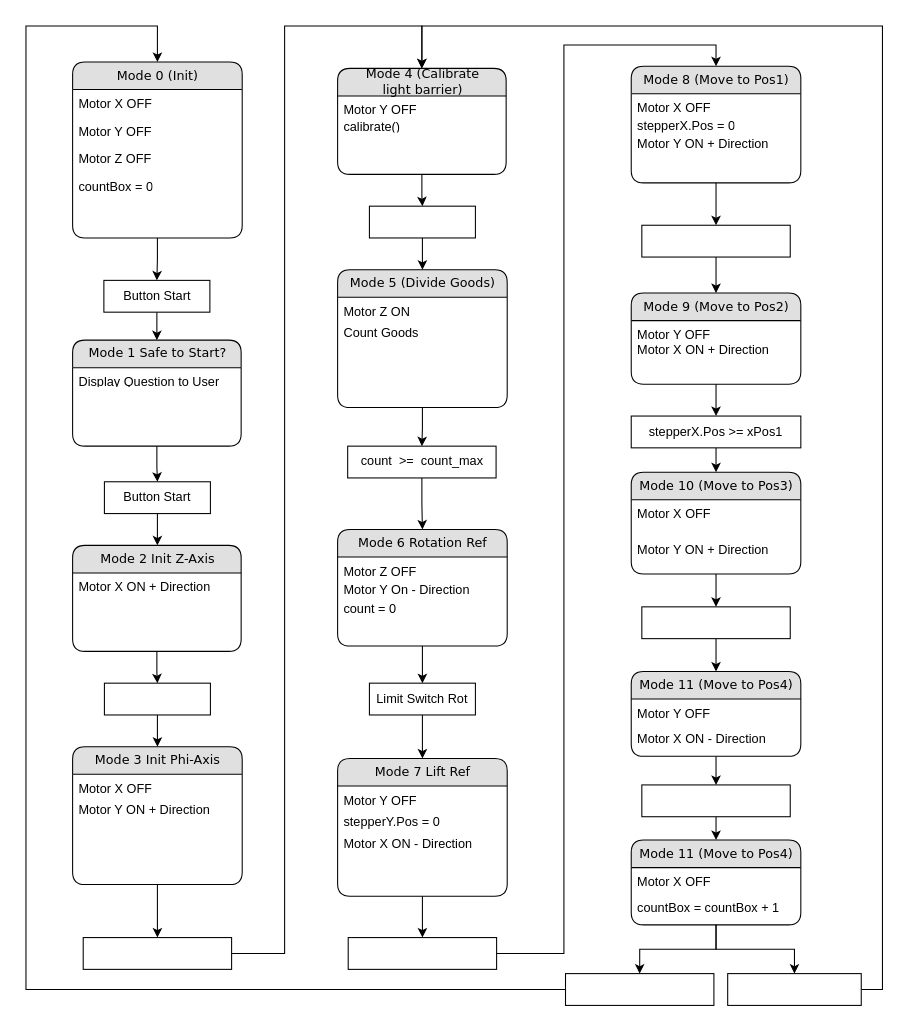
This 909x1024 diagram has some shape labels left out. The shapes that lost their labels are listed below. From the top down, each one's centre as x and y in pixels, then its label:
At [421,221]: "calibrated = True".
At [715,240]: "stepperY.Pos >= phiPos1".
At [715,622]: "stepperY.Pos >= phiPos2".
At [156,698]: "stepperX.Pos >= moXInitPos".
At [715,800]: "stepperX.Pos <= xPos2".
At [157,953]: "stepperY.Pos >= moYInitPos".
At [422,953]: "Limit Switch Lift".
At [639,989]: "countBox >= countBoxMax".
At [794,989]: "countBox < countBoxMax".
